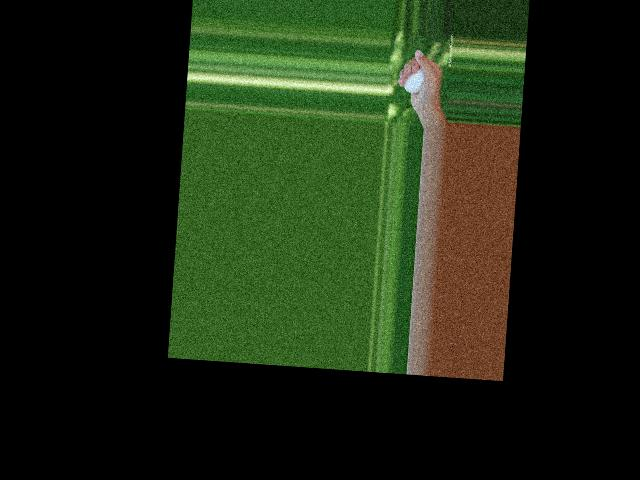egg: (403, 66, 424, 93)
